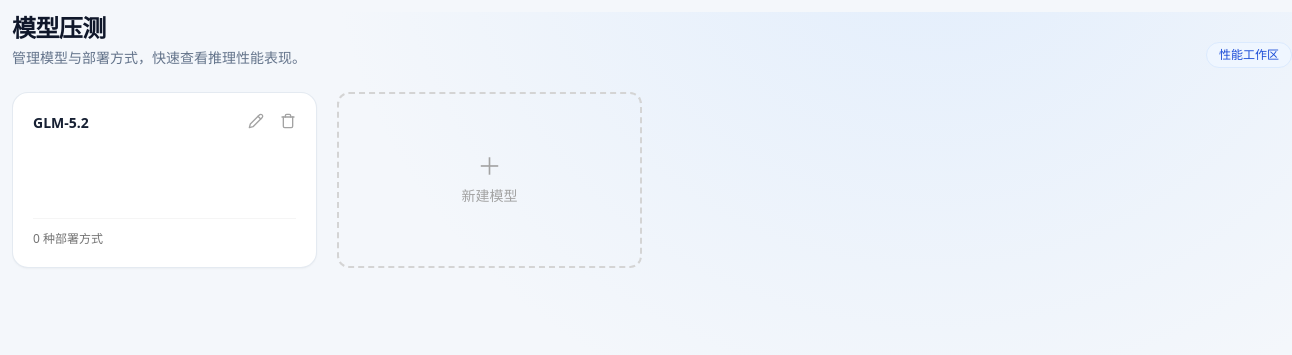
a rejected create is reported in words the API produced
Check: the link "GLM-5.2" is shown, box [33,113,89,132]
Step 1. Click the button "＋ 新建模型" → (490, 180), box [337,92,642,268]
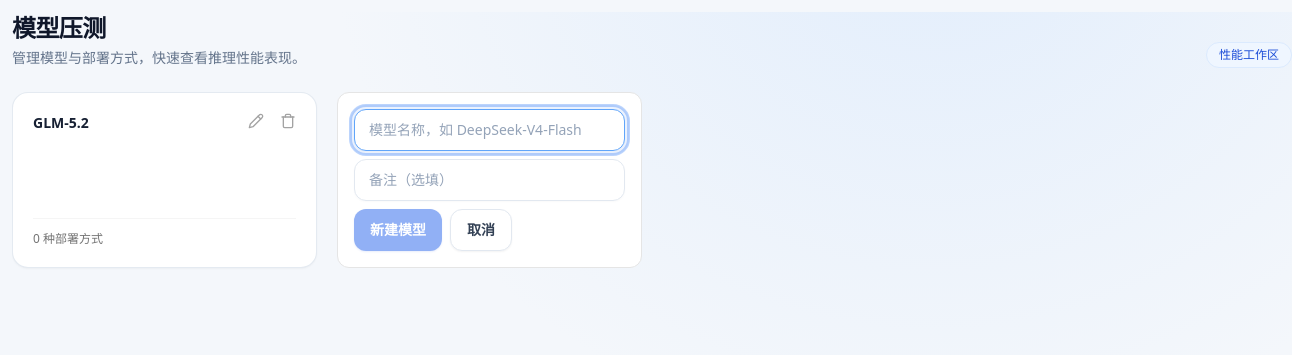
Step 2. Type "GLM-5.2" into the field labelled "模型名称" → (490, 130), box [354,109,625,151]
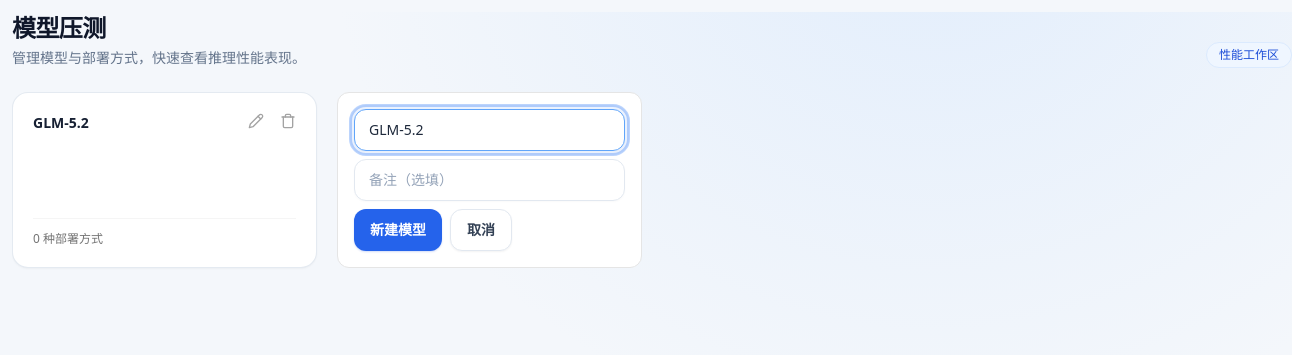
Step 3. Click the button "新建模型" → (398, 230), box [354,209,442,251]
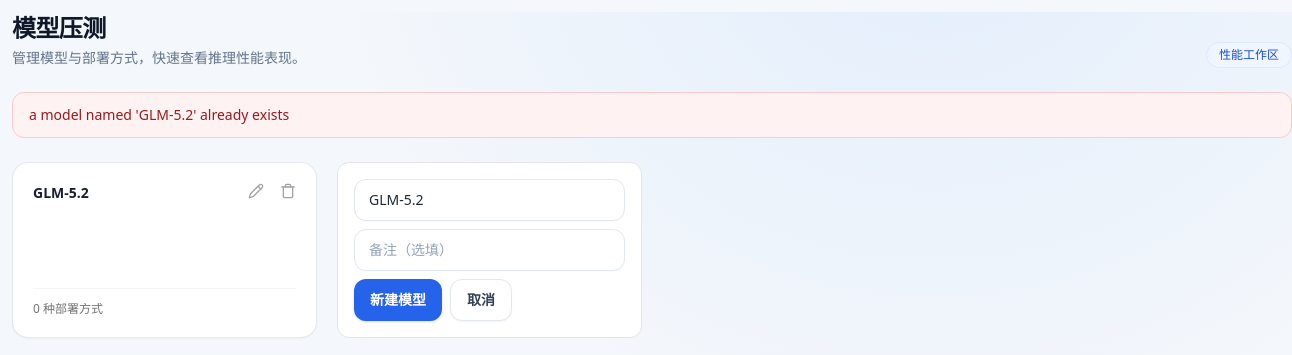
Check: the message reads "a model named 'GLM-5.2' already exists", box [29,105,289,124]
